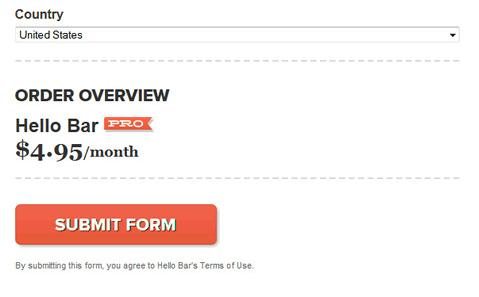button: (15, 202, 219, 246)
field: (14, 25, 460, 45)
field_with_label: (11, 8, 462, 48)
